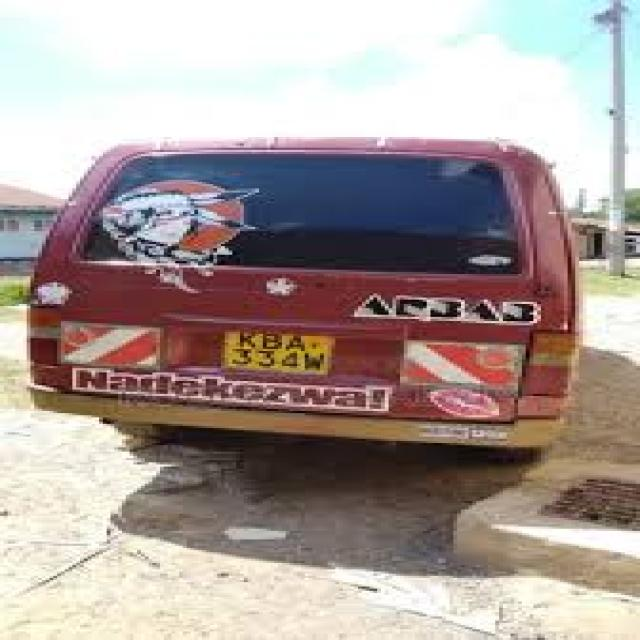matatu: (0, 75, 610, 472)
